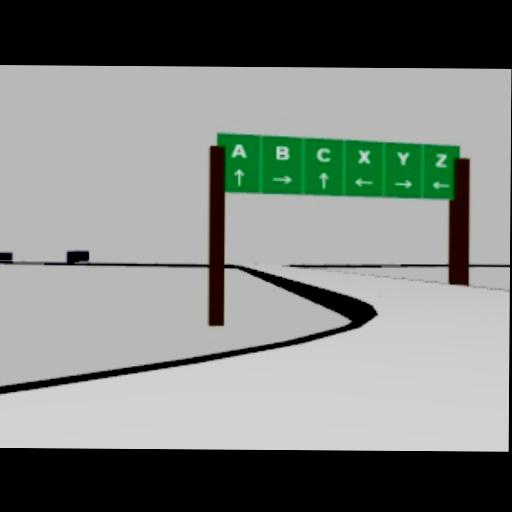A: (229, 141, 246, 156)
B: (274, 144, 289, 159)
C: (316, 146, 331, 161)
Left: (352, 176, 375, 186), (432, 179, 450, 187)
Right: (392, 178, 413, 188), (271, 173, 292, 183)
Straight: (318, 170, 330, 188), (233, 167, 245, 185)
X: (357, 147, 370, 162)
Y: (395, 149, 410, 165)
Z: (433, 152, 448, 167)
